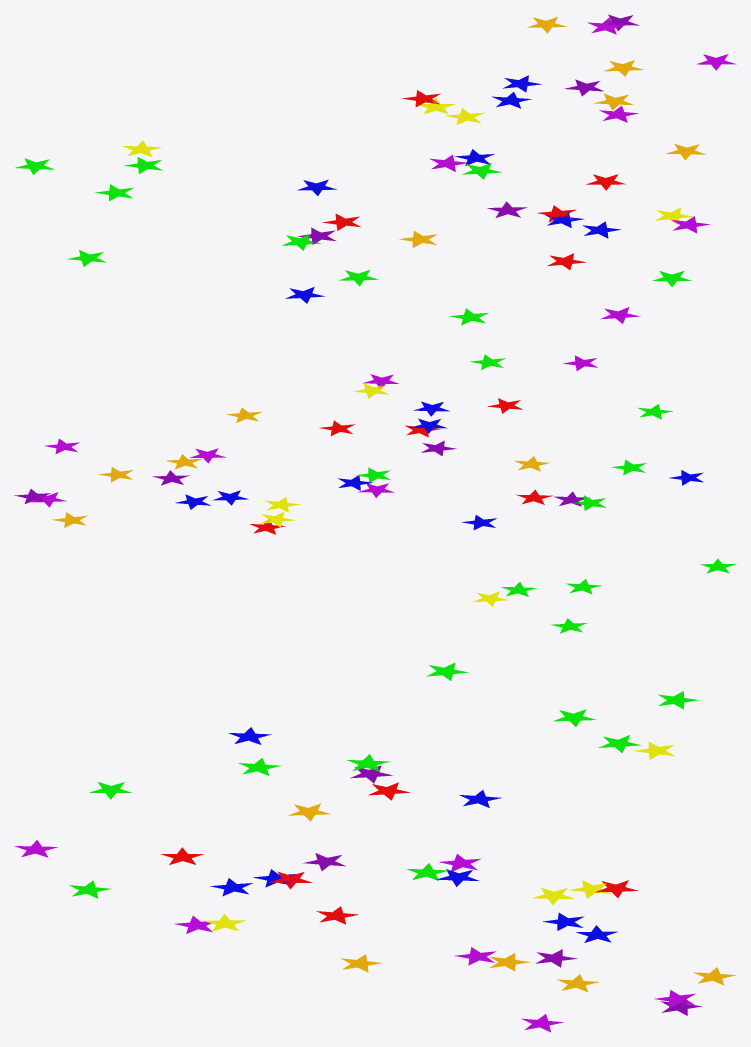
Rendered from rainbow_heart2.glb.
The picture shows the model from 3 angles, top to bottom: view 1: azimuth 30°, elevation 25°; view 2: azimuth 150°, elevation 25°; view 3: azimuth 270°, elevation 25°; orthographic projection. The views are drawn at different scales.
Size of the model in its own units: 2.61 by 0 by 2.15.
